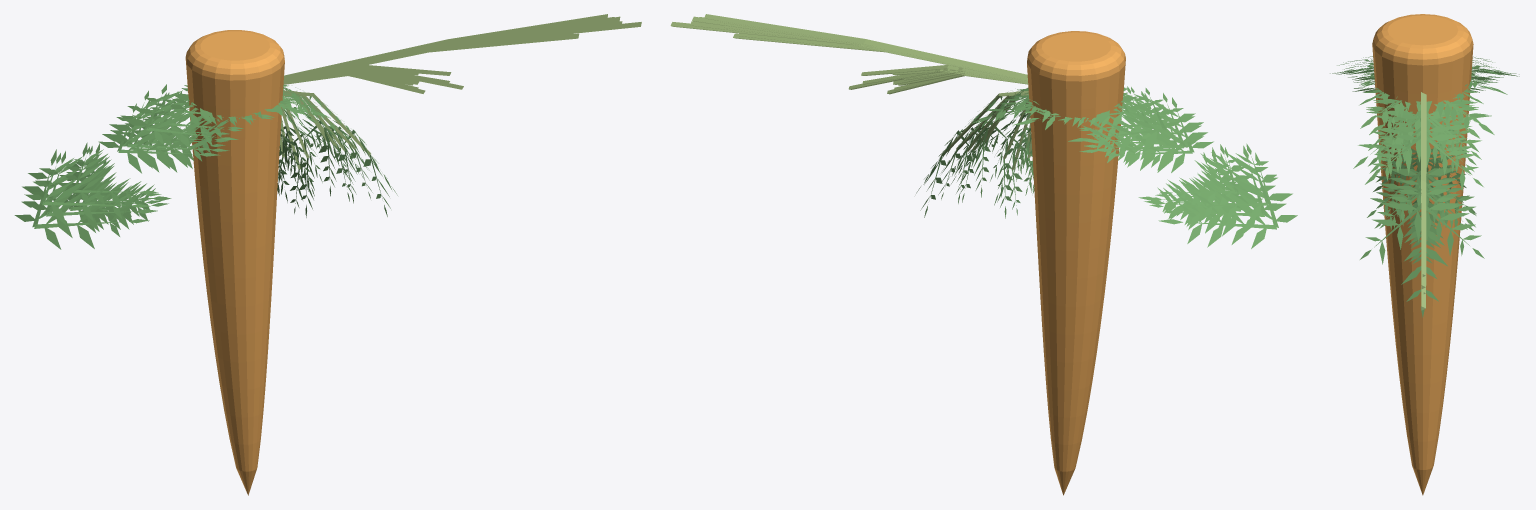
The model's file is carrot_harvest_v23.articulated.glb.
3 renders of one model, left to right at view 1: azimuth 30°, elevation 25°; view 2: azimuth 150°, elevation 25°; view 3: azimuth 270°, elevation 25°, orthographic.
Visible parts, largest first — view 1: root, leaf02_link2, leaf03_link2, leaf04_link2, leaf09_link2, leaf02_link0, leaf06_link2, leaf08_link2, leaf01_link2, leaf05_link2, leaf07_link2, leaf02_link1 (+3 smaller); view 2: root, leaf02_link2, leaf03_link2, leaf04_link2, leaf09_link2, leaf06_link2, leaf08_link2, leaf00_link0, leaf01_link2, leaf05_link2, leaf07_link2, leaf00_link2; view 3: root, leaf02_link2, leaf03_link2, leaf04_link2, leaf06_link2, leaf08_link2, leaf00_link0, leaf05_link2, leaf01_link2, leaf07_link2, leaf09_link2, leaf00_link2.
Boxes of the visible parts, left/top/right/bottom form: root: left=185, top=30, right=284, bottom=495; leaf02_link2: left=14, top=85, right=397, bottom=249; leaf03_link2: left=28, top=86, right=363, bottom=237; leaf04_link2: left=24, top=84, right=354, bottom=225; leaf09_link2: left=57, top=91, right=310, bottom=206; leaf02_link0: left=283, top=22, right=641, bottom=81; leaf06_link2: left=53, top=87, right=372, bottom=232; leaf08_link2: left=66, top=88, right=353, bottom=220; leaf01_link2: left=71, top=92, right=322, bottom=219; leaf05_link2: left=73, top=101, right=318, bottom=229; leaf07_link2: left=75, top=90, right=306, bottom=211; leaf02_link1: left=283, top=67, right=463, bottom=89; root: left=1027, top=31, right=1125, bottom=495; leaf02_link2: left=916, top=87, right=1297, bottom=248; leaf03_link2: left=946, top=88, right=1286, bottom=236; leaf04_link2: left=960, top=88, right=1289, bottom=222; leaf09_link2: left=1005, top=87, right=1250, bottom=209; leaf06_link2: left=938, top=88, right=1262, bottom=227; leaf08_link2: left=951, top=88, right=1244, bottom=219; leaf00_link0: left=704, top=14, right=1027, bottom=80; leaf01_link2: left=990, top=93, right=1240, bottom=220; leaf05_link2: left=994, top=100, right=1239, bottom=226; leaf07_link2: left=1007, top=86, right=1238, bottom=209; leaf00_link2: left=1002, top=99, right=1223, bottom=222; root: left=1372, top=14, right=1473, bottom=495; leaf02_link2: left=1330, top=59, right=1519, bottom=317; leaf03_link2: left=1337, top=60, right=1505, bottom=263; leaf04_link2: left=1337, top=56, right=1500, bottom=234; leaf06_link2: left=1348, top=68, right=1503, bottom=275; leaf08_link2: left=1359, top=68, right=1492, bottom=261; leaf00_link0: left=1421, top=92, right=1426, bottom=276; leaf05_link2: left=1352, top=73, right=1489, bottom=233; leaf01_link2: left=1354, top=71, right=1496, bottom=249; leaf07_link2: left=1363, top=73, right=1479, bottom=198; leaf09_link2: left=1361, top=67, right=1481, bottom=204; leaf00_link2: left=1360, top=76, right=1482, bottom=192.
Size of the model in its own units: 0.2755 by 0.1962 by 0.0752.
1 material, 1 textured.
